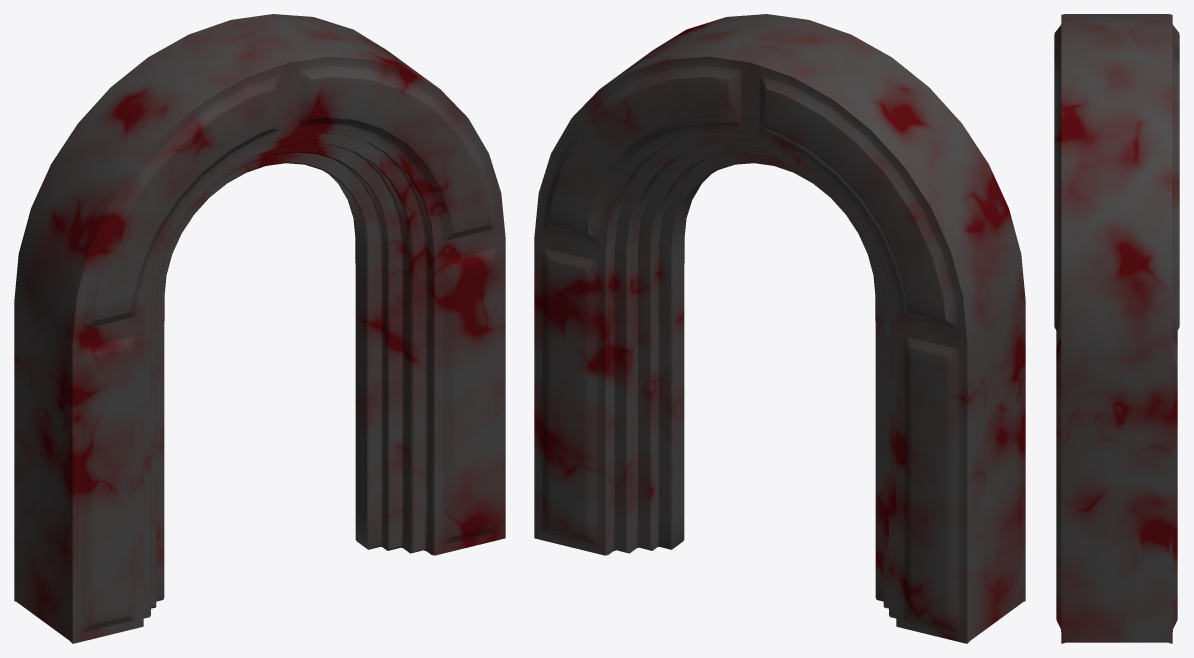
Rendered from Door.fbx.
3 views of the same model, side by side, from view 1: azimuth 30°, elevation 25°; view 2: azimuth 150°, elevation 25°; view 3: azimuth 270°, elevation 25° (orthographic). The views are drawn at different scales.
Visible parts, largest first — view 1: Circle; view 2: Circle; view 3: Circle.
Part boxes in pixels (bbox=[...]): Circle: bbox=[14, 14, 505, 643]; Circle: bbox=[534, 14, 1025, 643]; Circle: bbox=[1054, 14, 1179, 643].
Size of the model in its own units: 300 by 350 by 78.53.
